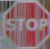Stop: (4, 1, 48, 46)
